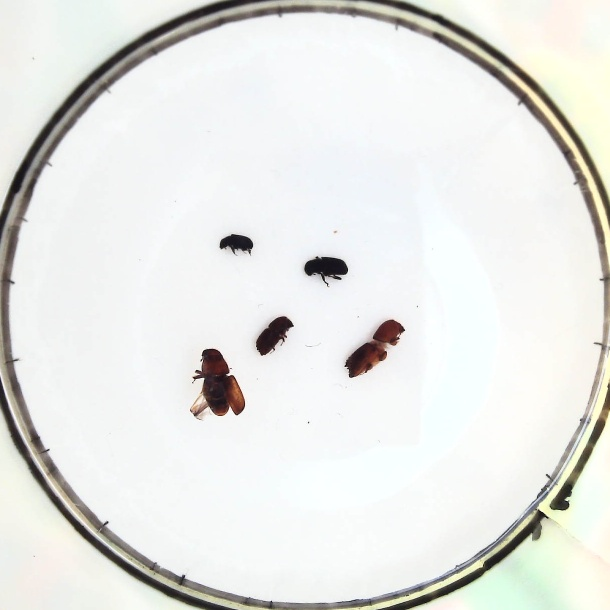armandi: (303, 251, 346, 283)
boerner: (345, 316, 406, 378)
coleoptera: (218, 233, 251, 258)
leconte: (190, 347, 244, 421)
linnaeus: (256, 317, 291, 355)
